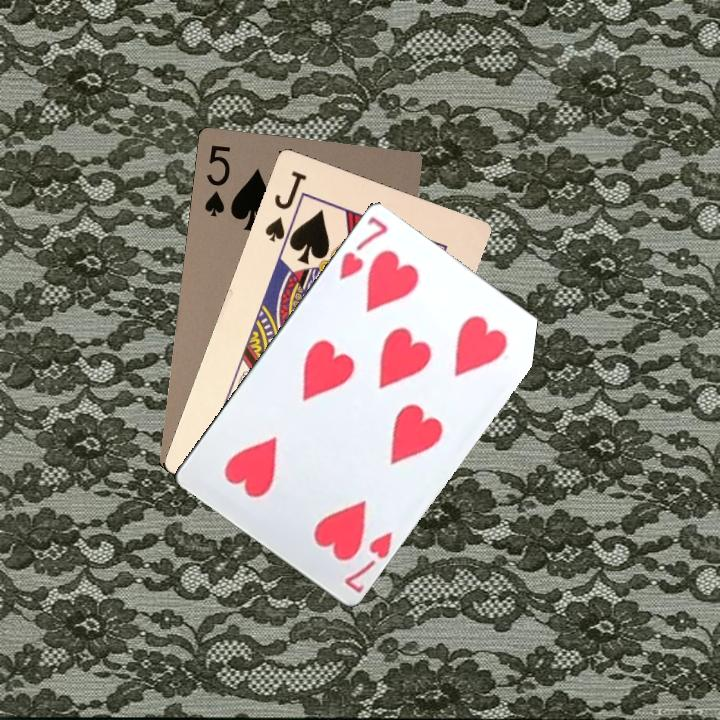5s: (200, 141, 233, 219)
7h: (335, 212, 390, 283), (340, 527, 396, 595)
Js: (261, 166, 310, 247)
